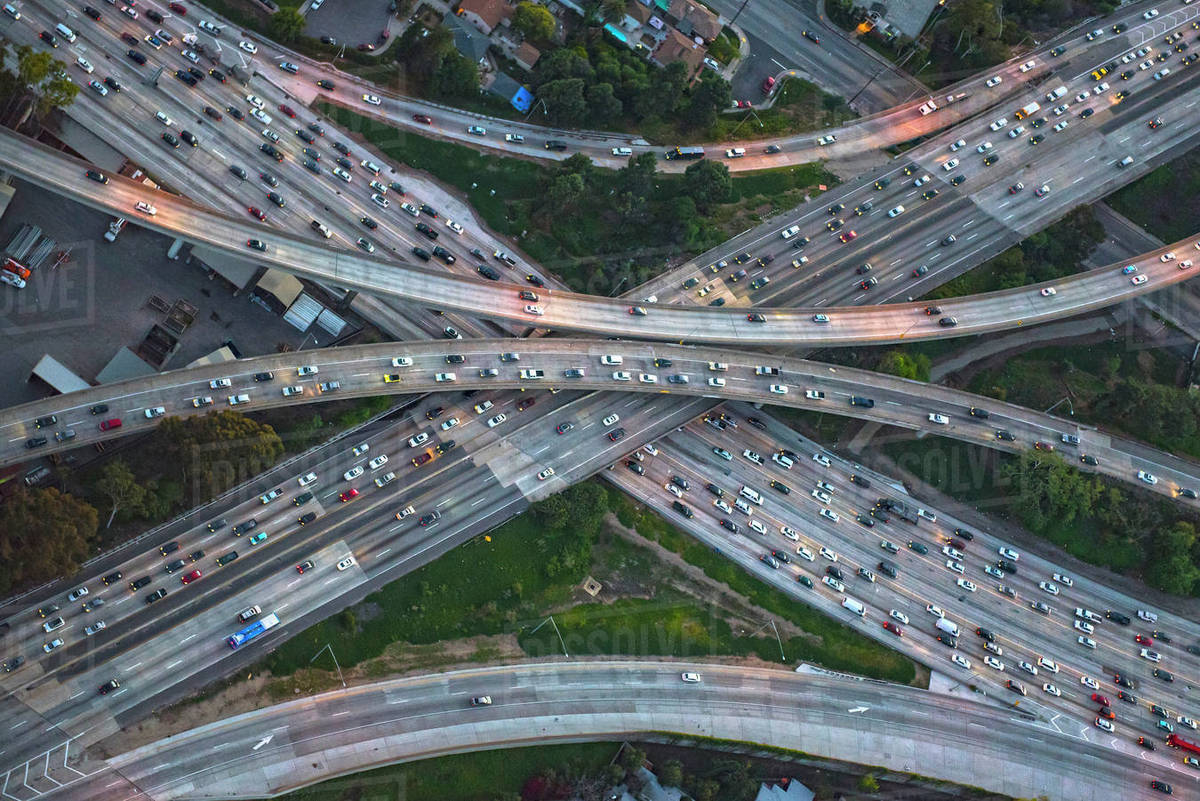Vehicle: (180, 30, 254, 85), (916, 79, 979, 119), (224, 612, 281, 651), (875, 497, 920, 524), (1167, 731, 1200, 756), (663, 143, 705, 161), (102, 215, 130, 242), (839, 594, 866, 617), (934, 614, 961, 637), (1071, 606, 1102, 625), (1014, 98, 1041, 119), (417, 507, 445, 527), (54, 22, 79, 44), (1114, 671, 1140, 692), (434, 245, 460, 265), (248, 107, 275, 126), (731, 496, 754, 518), (740, 482, 763, 504), (415, 221, 441, 240), (129, 573, 153, 593), (492, 249, 516, 269), (261, 141, 285, 161), (1017, 659, 1042, 678), (204, 516, 230, 534), (1072, 618, 1098, 636), (90, 78, 111, 100), (2, 654, 25, 674), (259, 486, 282, 506), (983, 653, 1007, 672), (309, 219, 333, 238), (703, 412, 728, 430), (770, 453, 795, 471), (235, 603, 263, 619), (40, 615, 66, 632), (233, 519, 259, 536), (339, 486, 361, 506), (1037, 656, 1059, 676), (407, 430, 430, 449), (485, 411, 509, 429), (995, 558, 1019, 576), (1044, 84, 1071, 100), (79, 596, 104, 613), (1117, 690, 1142, 707), (1103, 608, 1128, 625), (134, 198, 159, 215), (516, 367, 546, 381), (344, 463, 364, 484), (394, 503, 415, 523), (705, 479, 725, 500), (208, 64, 229, 84), (177, 66, 197, 87), (75, 55, 96, 75), (180, 568, 202, 587), (180, 126, 199, 148), (1135, 610, 1161, 626), (1050, 572, 1076, 588), (83, 167, 109, 183), (98, 679, 121, 697), (216, 550, 239, 568), (929, 411, 953, 428), (969, 405, 993, 422), (66, 585, 90, 602), (366, 452, 390, 469), (669, 473, 693, 490), (935, 632, 959, 649), (753, 364, 780, 379), (719, 516, 739, 536), (83, 6, 108, 22), (672, 500, 693, 519), (1097, 704, 1118, 723), (779, 447, 801, 465), (818, 544, 840, 562), (998, 544, 1020, 562), (1006, 678, 1028, 696), (443, 324, 465, 342), (43, 635, 66, 652), (38, 600, 61, 617), (144, 587, 167, 604), (164, 557, 187, 574), (950, 653, 973, 670), (199, 20, 222, 37), (400, 202, 423, 219), (97, 417, 123, 432), (1092, 692, 1116, 708), (1138, 735, 1158, 754), (156, 27, 176, 46), (144, 33, 163, 53), (142, 406, 169, 420), (719, 411, 740, 429), (746, 414, 767, 432), (748, 517, 769, 535), (780, 525, 801, 543), (771, 547, 792, 565), (759, 551, 780, 569), (793, 546, 814, 564), (822, 574, 843, 592), (823, 562, 844, 580), (819, 506, 840, 524), (810, 486, 831, 504), (812, 451, 833, 469), (850, 471, 871, 489), (854, 510, 875, 528), (856, 565, 877, 583), (877, 558, 898, 576), (879, 535, 900, 553), (908, 536, 929, 554), (388, 179, 409, 197), (182, 47, 203, 65), (53, 429, 78, 444), (159, 540, 181, 557), (662, 480, 684, 497), (888, 608, 910, 625), (40, 29, 62, 46), (802, 28, 824, 45), (208, 376, 231, 392), (296, 470, 319, 486), (277, 59, 300, 75), (360, 160, 383, 176), (544, 138, 570, 152), (352, 441, 371, 460), (608, 425, 627, 444), (102, 75, 121, 94), (88, 402, 112, 417), (100, 571, 124, 586), (293, 491, 317, 506), (267, 189, 287, 207), (870, 506, 891, 523), (917, 506, 938, 523), (260, 172, 281, 189), (249, 530, 271, 546), (515, 395, 537, 411), (956, 577, 978, 593), (1079, 634, 1101, 650), (1040, 580, 1062, 596), (749, 274, 771, 290), (478, 264, 500, 280), (295, 127, 317, 143), (2, 4, 24, 20), (598, 353, 625, 366), (994, 430, 1019, 444), (469, 247, 494, 261), (944, 535, 967, 550), (942, 545, 965, 560), (1030, 599, 1053, 614), (922, 186, 941, 204), (1138, 469, 1158, 486), (337, 555, 357, 572), (926, 601, 946, 618), (1080, 674, 1100, 691), (837, 228, 857, 245), (230, 162, 250, 179), (121, 4, 141, 21), (470, 694, 496, 707), (610, 145, 636, 158), (441, 415, 462, 431), (470, 400, 494, 414), (1095, 716, 1116, 732), (756, 251, 777, 267), (356, 237, 377, 253), (128, 48, 149, 64), (804, 388, 826, 403), (1033, 440, 1055, 455), (411, 452, 433, 467), (945, 559, 967, 574), (984, 641, 1006, 656), (681, 274, 703, 289), (373, 472, 398, 485), (872, 175, 890, 193), (122, 29, 139, 48), (318, 379, 341, 393), (555, 419, 575, 435), (713, 499, 733, 515), (712, 444, 732, 460), (412, 245, 432, 261), (226, 106, 246, 122), (203, 106, 223, 122), (1178, 486, 1199, 501), (1152, 777, 1173, 792), (770, 479, 791, 494), (1177, 714, 1198, 729), (1153, 667, 1174, 682), (997, 584, 1018, 599), (851, 201, 872, 216), (332, 167, 353, 182), (84, 620, 106, 634), (625, 460, 647, 474), (816, 480, 838, 494), (1061, 432, 1080, 448), (883, 619, 902, 635), (1140, 646, 1159, 662), (165, 132, 181, 151), (850, 395, 875, 407), (940, 311, 960, 326), (727, 269, 747, 284), (825, 201, 845, 216), (526, 272, 546, 287), (420, 204, 440, 219), (304, 159, 324, 174), (143, 8, 163, 23), (168, 2, 188, 17), (391, 355, 414, 368), (506, 131, 529, 144), (23, 435, 50, 446), (628, 304, 649, 318), (744, 450, 765, 464), (953, 527, 974, 541), (412, 111, 433, 125), (278, 104, 299, 118), (35, 415, 59, 427), (296, 365, 320, 377), (444, 353, 468, 365), (668, 373, 692, 385), (1042, 682, 1060, 698), (911, 262, 929, 278), (760, 143, 784, 155), (725, 147, 749, 159), (308, 120, 326, 136), (155, 109, 173, 125), (1181, 51, 1199, 67), (500, 351, 522, 364), (768, 382, 790, 395), (523, 304, 545, 317), (465, 124, 487, 137), (295, 560, 314, 575), (1149, 703, 1168, 718), (300, 144, 319, 159), (296, 511, 316, 525), (535, 466, 555, 480), (425, 405, 445, 419), (709, 259, 729, 273), (902, 162, 922, 176), (942, 158, 962, 172), (988, 116, 1008, 130), (1032, 114, 1052, 128), (315, 77, 335, 91), (445, 220, 465, 234), (706, 376, 729, 388), (254, 370, 275, 383), (679, 670, 700, 683), (976, 626, 997, 639), (603, 410, 620, 426), (948, 138, 966, 153), (1008, 124, 1026, 139), (189, 64, 207, 79), (638, 371, 657, 385), (1133, 634, 1152, 648), (697, 282, 716, 296), (780, 223, 799, 237), (939, 233, 958, 247), (1028, 130, 1047, 144), (1017, 60, 1036, 74), (335, 155, 354, 169), (246, 94, 265, 108), (193, 396, 215, 408), (228, 394, 252, 405), (611, 370, 633, 382), (708, 361, 730, 373), (245, 239, 267, 251), (792, 254, 812, 267), (1084, 28, 1104, 41), (1154, 630, 1171, 645), (262, 127, 279, 142), (1182, 755, 1200, 769), (860, 276, 878, 290), (363, 92, 381, 106), (240, 42, 261, 54), (370, 180, 388, 194), (372, 194, 390, 208), (1116, 154, 1134, 168), (1111, 21, 1129, 35), (1091, 66, 1109, 80), (1081, 452, 1100, 465), (642, 443, 661, 456), (734, 251, 753, 264), (1165, 31, 1184, 44), (563, 367, 585, 378), (517, 290, 539, 301), (925, 305, 945, 317), (794, 235, 810, 250), (826, 219, 846, 231), (1054, 101, 1069, 117), (249, 207, 269, 219), (188, 547, 205, 561), (1094, 82, 1111, 96), (1159, 250, 1177, 263), (812, 313, 833, 324), (1048, 46, 1069, 57), (383, 374, 404, 385), (795, 575, 814, 587), (1121, 262, 1140, 274), (912, 174, 931, 186), (281, 385, 306, 394), (1034, 184, 1050, 198), (889, 205, 906, 218), (1008, 181, 1025, 194), (434, 372, 456, 382), (479, 368, 501, 378), (654, 357, 674, 368), (984, 564, 1004, 575), (817, 134, 837, 145), (949, 173, 967, 185), (1157, 718, 1172, 732), (747, 313, 768, 323), (854, 264, 875, 274), (319, 35, 340, 45), (1133, 272, 1149, 285), (361, 216, 377, 229), (1105, 60, 1121, 73), (1157, 49, 1173, 62), (985, 74, 1002, 86), (1143, 9, 1160, 21), (1153, 67, 1170, 79), (1137, 45, 1154, 57), (1038, 287, 1058, 297), (983, 153, 1001, 164), (1052, 120, 1067, 133), (333, 142, 349, 154), (1075, 91, 1091, 103), (357, 43, 376, 53), (976, 142, 993, 153), (1148, 117, 1163, 129), (1078, 108, 1094, 119), (1174, 41, 1190, 52), (710, 295, 727, 305), (1186, 644, 1200, 656), (1122, 52, 1136, 64), (1178, 259, 1193, 270), (1122, 69, 1137, 80), (1139, 60, 1155, 70), (1117, 89, 1132, 99), (311, 1, 325, 10)
